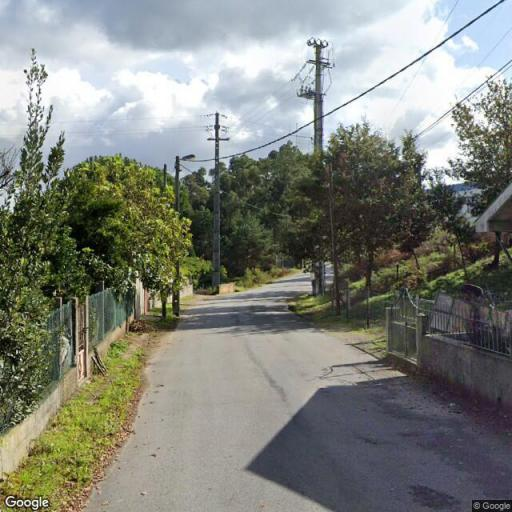mono_7: (300, 35, 338, 297), (202, 108, 232, 314)
